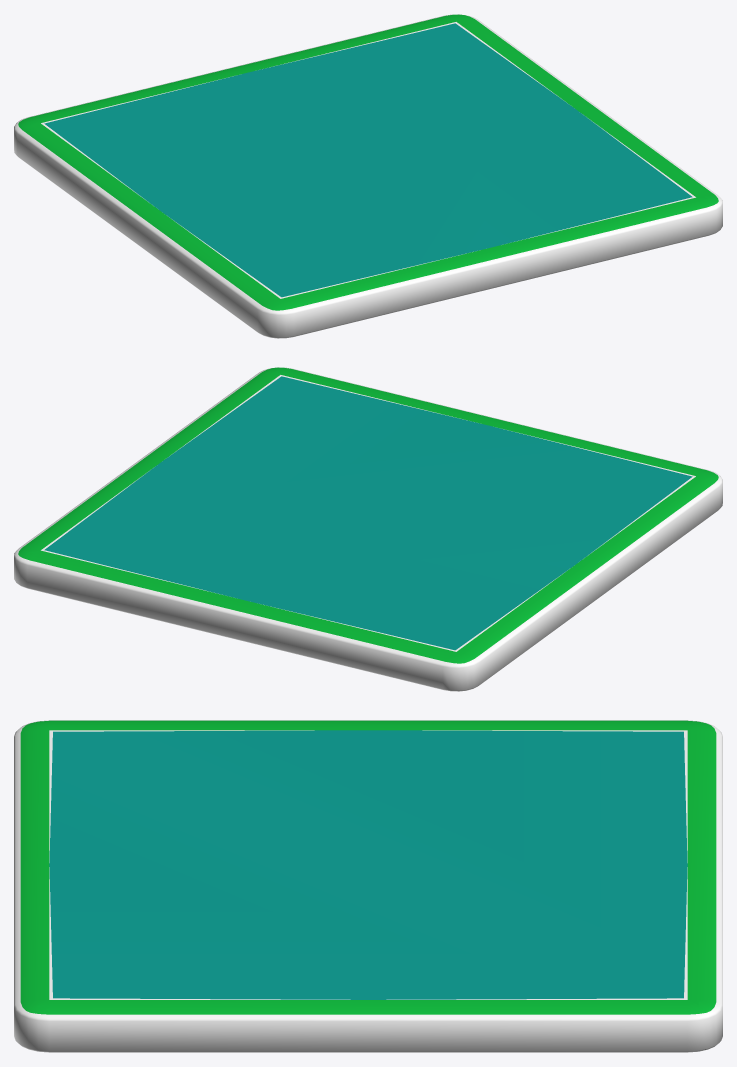
Rendered from plataforma.fbx.
3 views of the same model, one above another, from view 1: azimuth 30°, elevation 25°; view 2: azimuth 150°, elevation 25°; view 3: azimuth 270°, elevation 25° (orthographic). The views are drawn at different scales.
Visible parts, largest first — view 1: Plataforma; view 2: Plataforma; view 3: Plataforma.
Boxes of the visible parts, x1,y1,x2,y2 form: Plataforma: (14, 14, 722, 338); Plataforma: (14, 367, 722, 691); Plataforma: (14, 720, 722, 1052).
Size of the model in its own units: 1000 by 66.67 by 1000.
